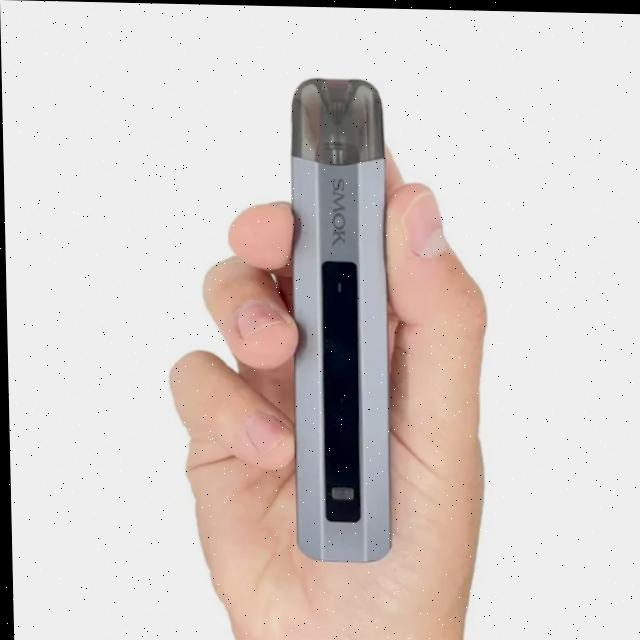vape: (288, 76, 391, 564)
